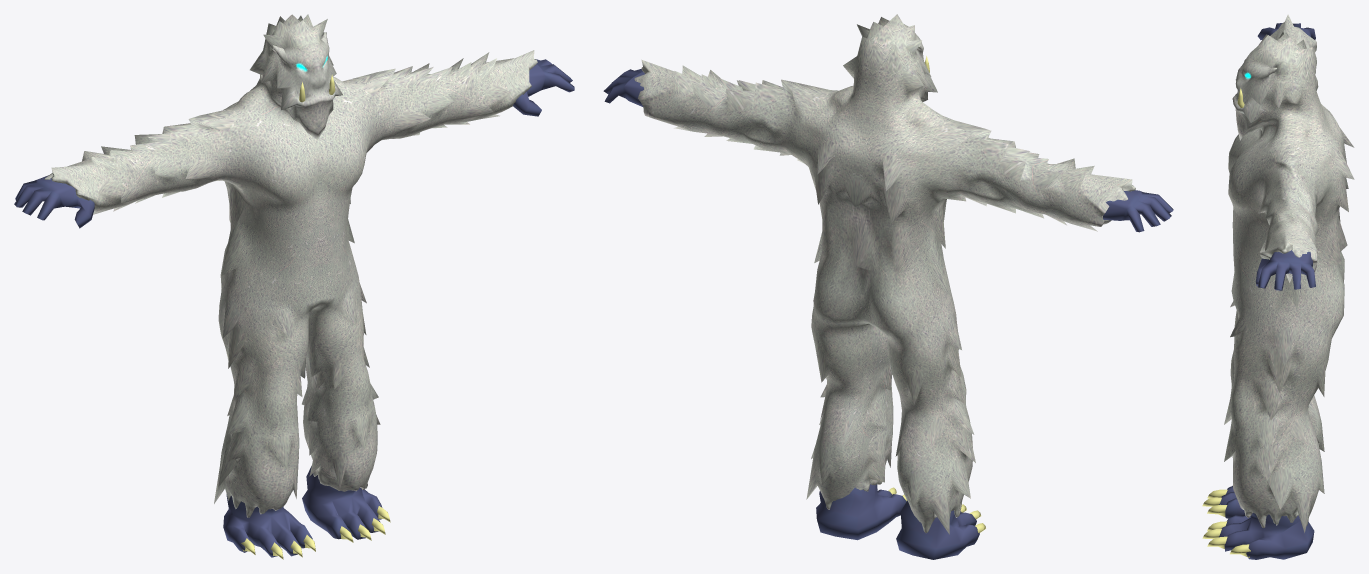
The model's file is Yeti.glb.
3 renders of one model, left to right at view 1: azimuth 30°, elevation 25°; view 2: azimuth 150°, elevation 25°; view 3: azimuth 270°, elevation 25°, orthographic. The views are drawn at different scales.
Visible parts, largest first — view 1: unnamed; view 2: unnamed; view 3: unnamed.
Boxes of the visible parts, <box> form: unnamed: <box>14,14,574,559</box>; unnamed: <box>603,14,1173,559</box>; unnamed: <box>1202,14,1354,559</box>.
Size of the model in its own units: 49.13 by 43.64 by 12.23.
1 material, 1 textured.
